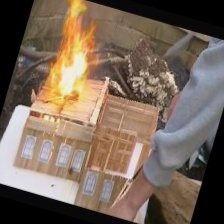fire: (36, 0, 113, 110)
